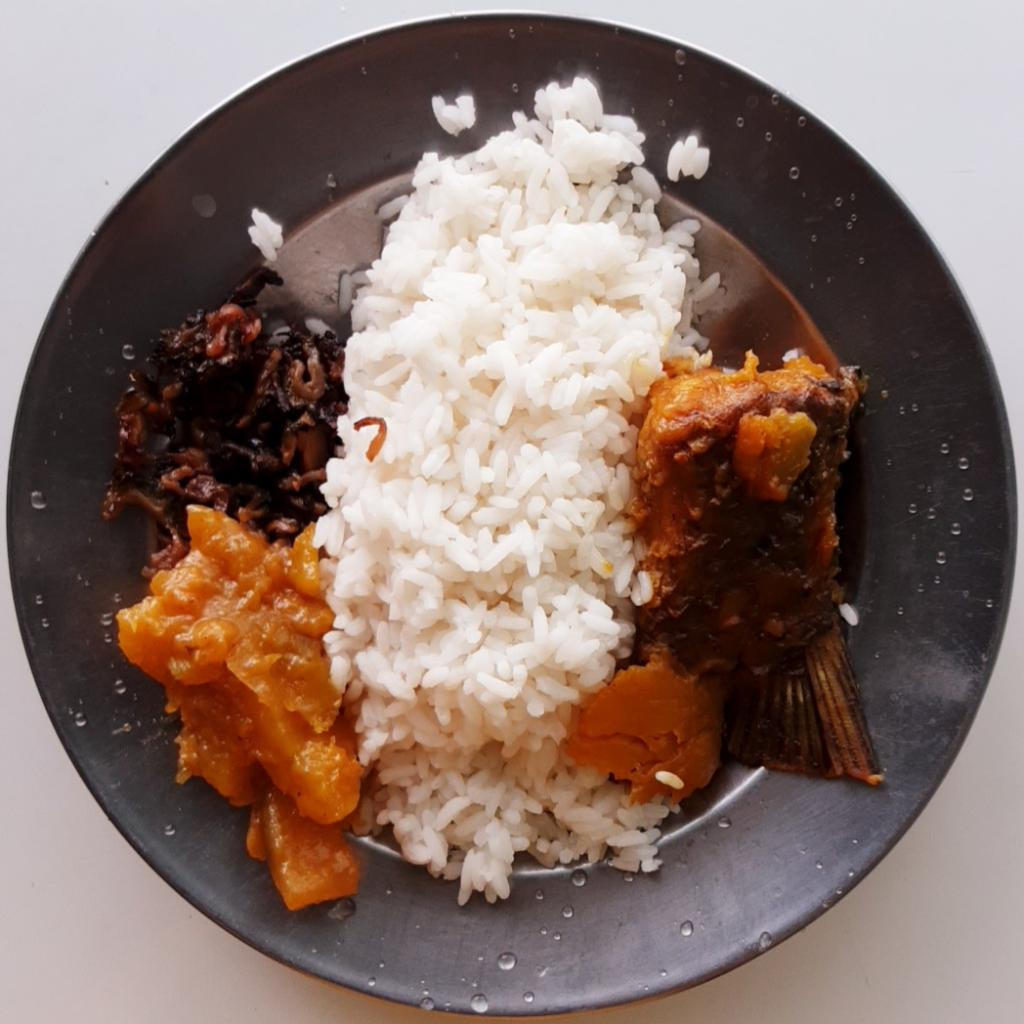fish: (635, 350, 888, 784)
korola-vaji: (103, 268, 340, 539)
kumra-vaji: (119, 501, 361, 911), (570, 664, 729, 787)
rice: (313, 79, 731, 911)
